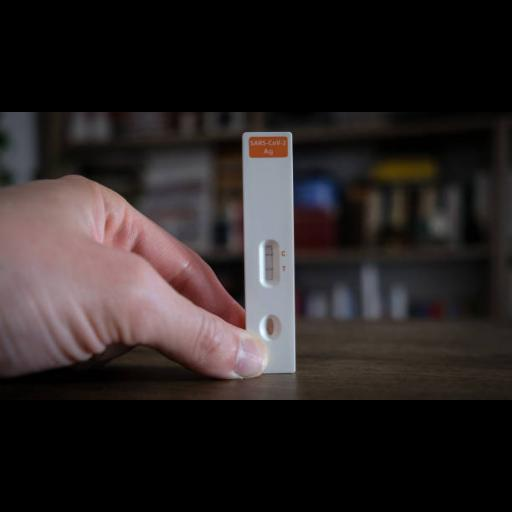Pos: (243, 130, 295, 372)
